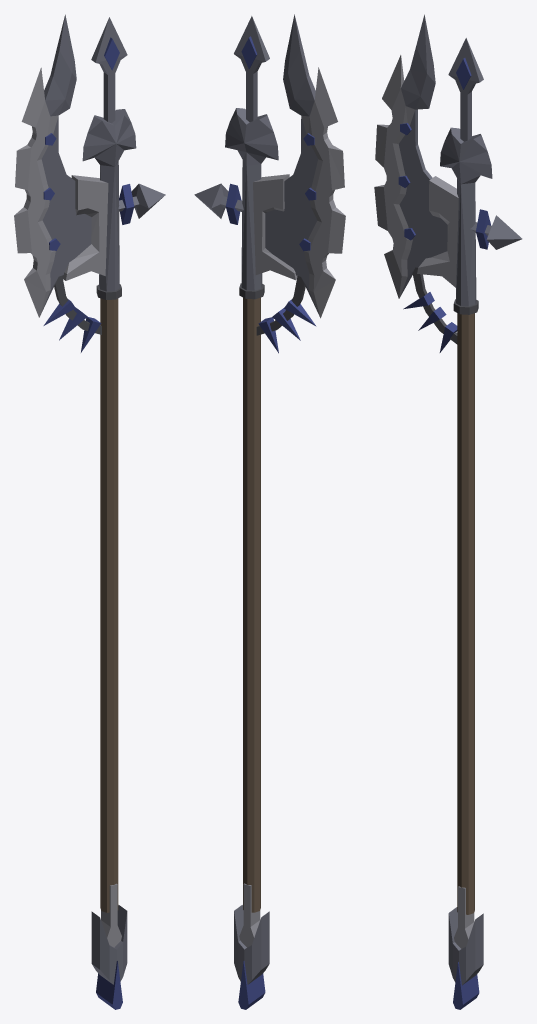
Rendered from Lanca_A12.fbx.
The picture shows the model from 3 angles, left to right: view 1: azimuth 30°, elevation 25°; view 2: azimuth 150°, elevation 25°; view 3: azimuth 330°, elevation 25°; orthographic projection. The views are drawn at different scales.
Parts seen in each view (by area): view 1: polearm_12; view 2: polearm_12; view 3: polearm_12.
Boxes of the visible parts, box(x1,y1,x2,y2) form: polearm_12: box(14, 14, 165, 1009); polearm_12: box(194, 14, 345, 1009); polearm_12: box(374, 14, 522, 1009).
Bounding box in the file's own units: 32.65 × 205 × 7.34.
